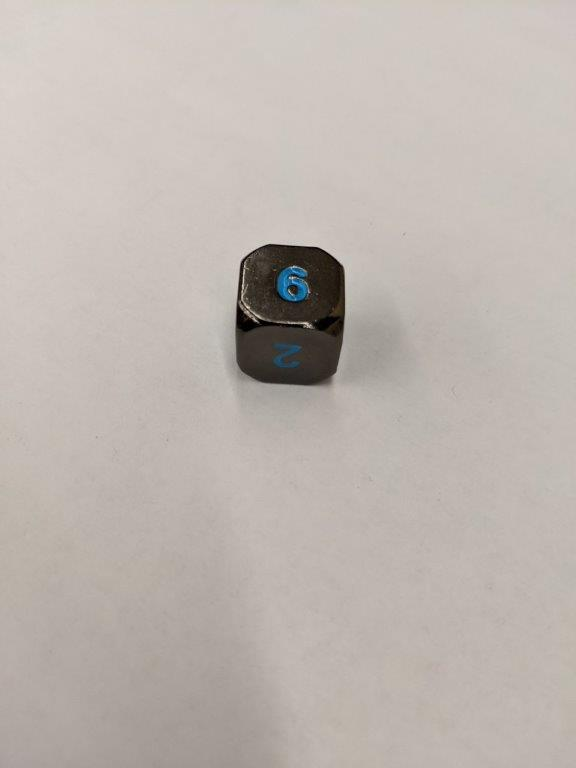d6-6: (233, 241, 347, 398)
